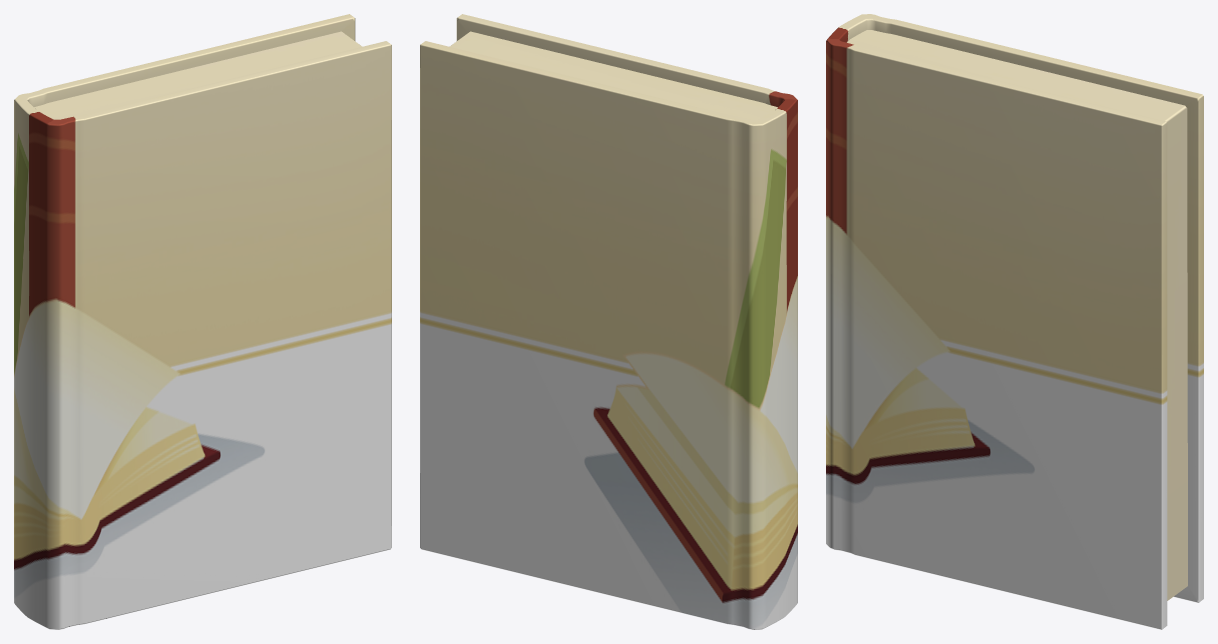
Rendered from Book_Hi.FBX.
3 views of the same model, side by side, from view 1: azimuth 30°, elevation 25°; view 2: azimuth 150°, elevation 25°; view 3: azimuth 330°, elevation 25° (orthographic).
Visible parts, largest first — view 1: Book_Hi; view 2: Book_Hi; view 3: Book_Hi.
Boxes of the visible parts, <box> form: Book_Hi: <box>14,14,391,629</box>; Book_Hi: <box>420,14,797,629</box>; Book_Hi: <box>826,14,1203,629</box>.
Size of the model in its own units: 14.18 by 19.89 by 3.
